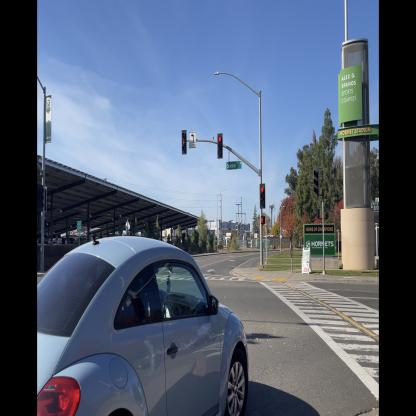left-yellow: (181, 128, 187, 156)
red: (259, 182, 266, 210), (217, 131, 223, 161)
